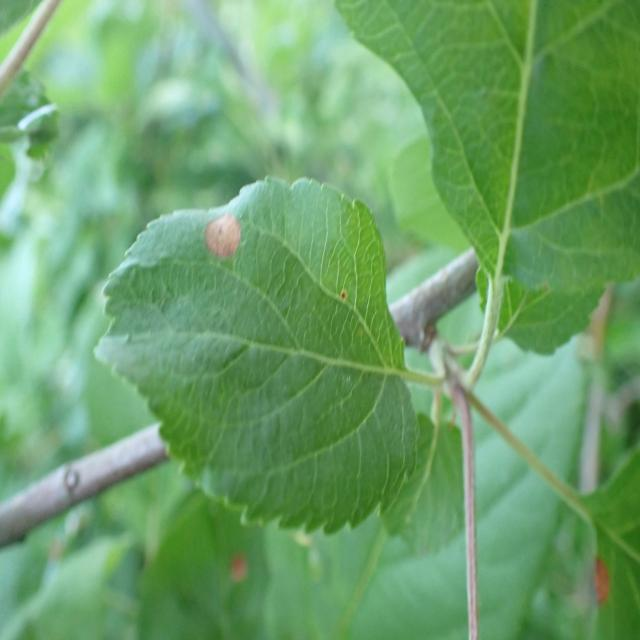frog-eye-leaf-spot: (94, 175, 421, 538)
